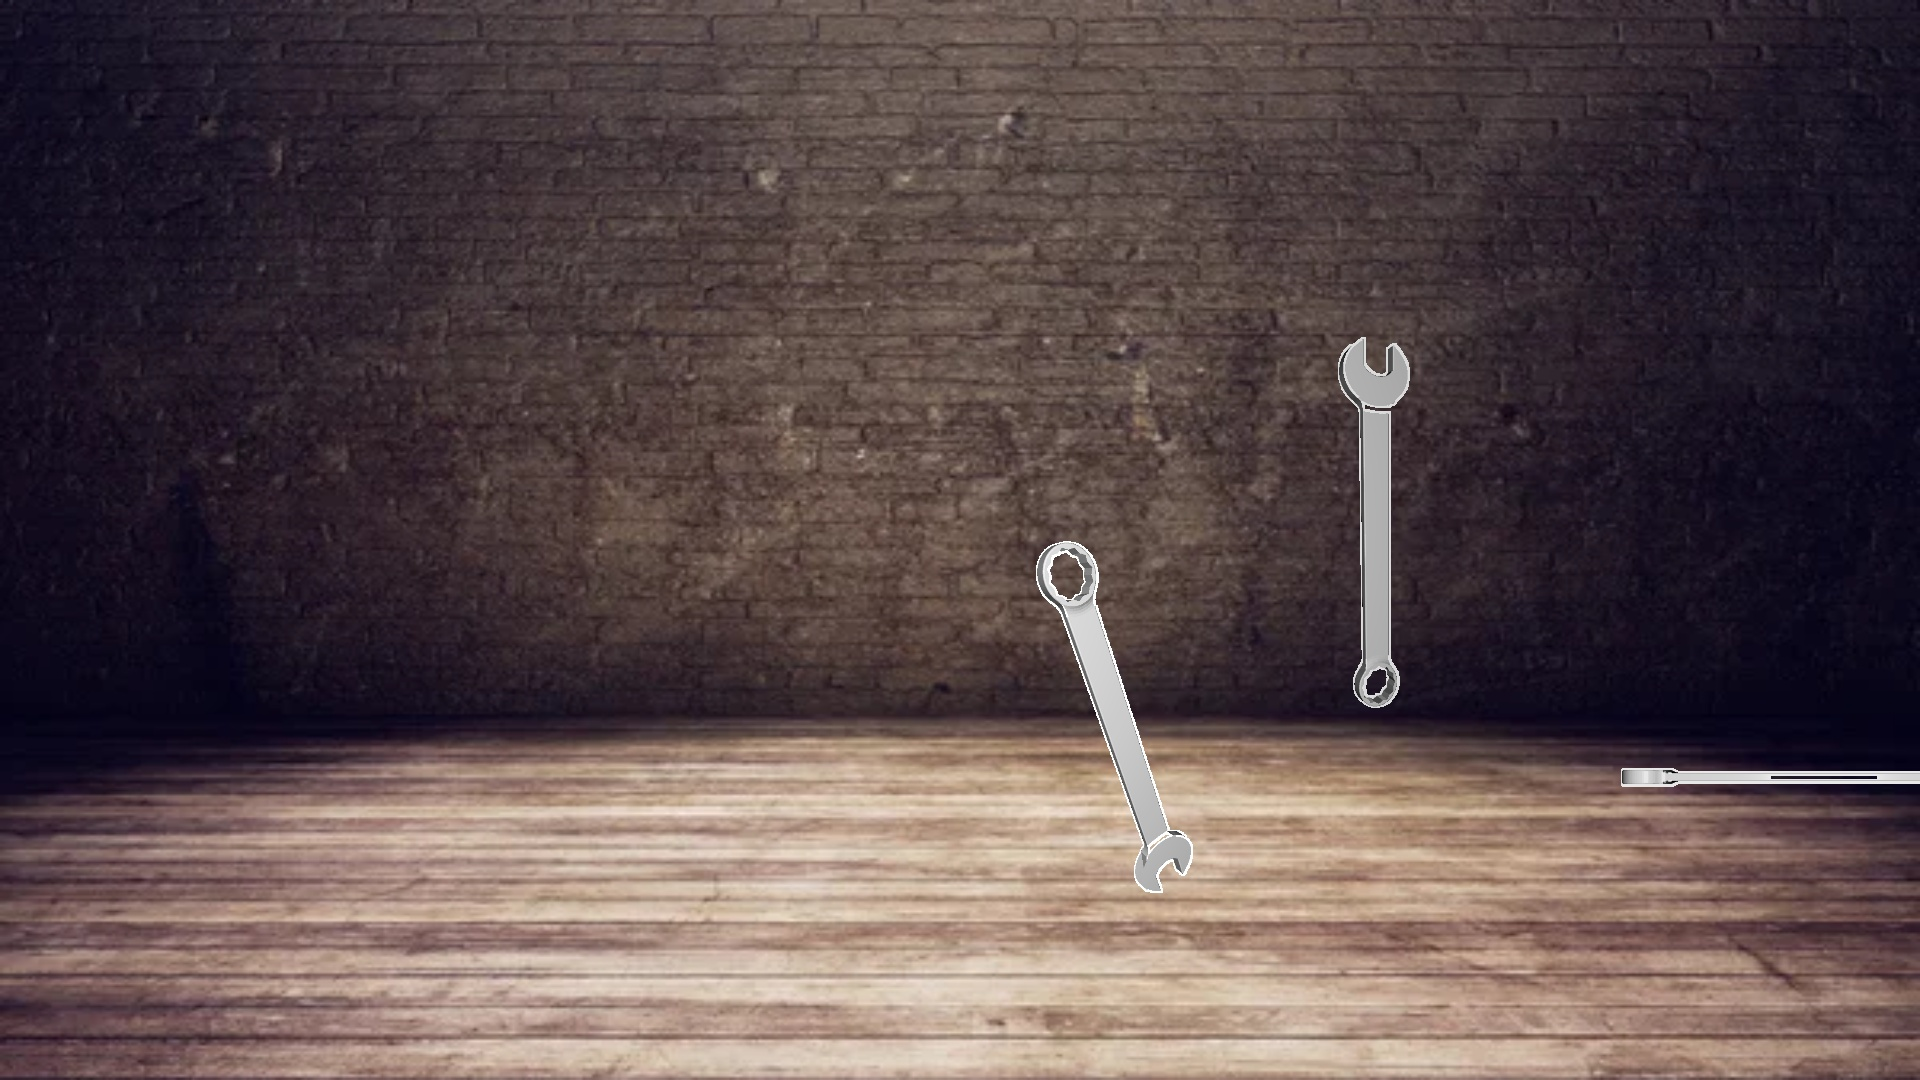Mixed Key: (1036, 541, 1192, 891), (1338, 338, 1408, 707), (1621, 767, 1919, 786)
